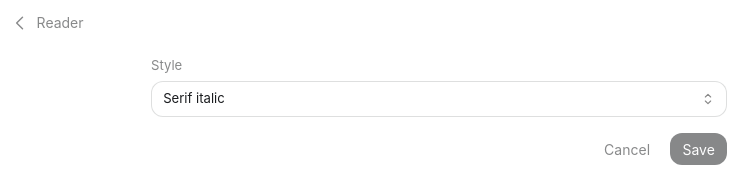
Test case: persona settings screen › saves style without offering persona speech settings
The width and height of the screenshot is (748, 182).
Check: the button "Save" is disabled, box [670, 133, 727, 165]
Select "Mono large" in the dropdown labelled "Style". click: (439, 99)
box: [151, 81, 727, 117]
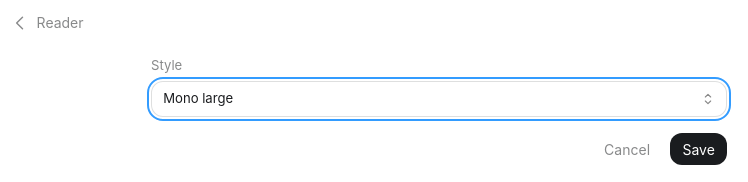
Click the button "Save". click: (699, 149)
box: [670, 133, 727, 165]
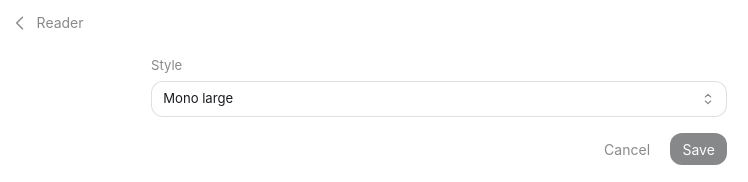
Check: the button "Save" is disabled, box [670, 133, 727, 165]
